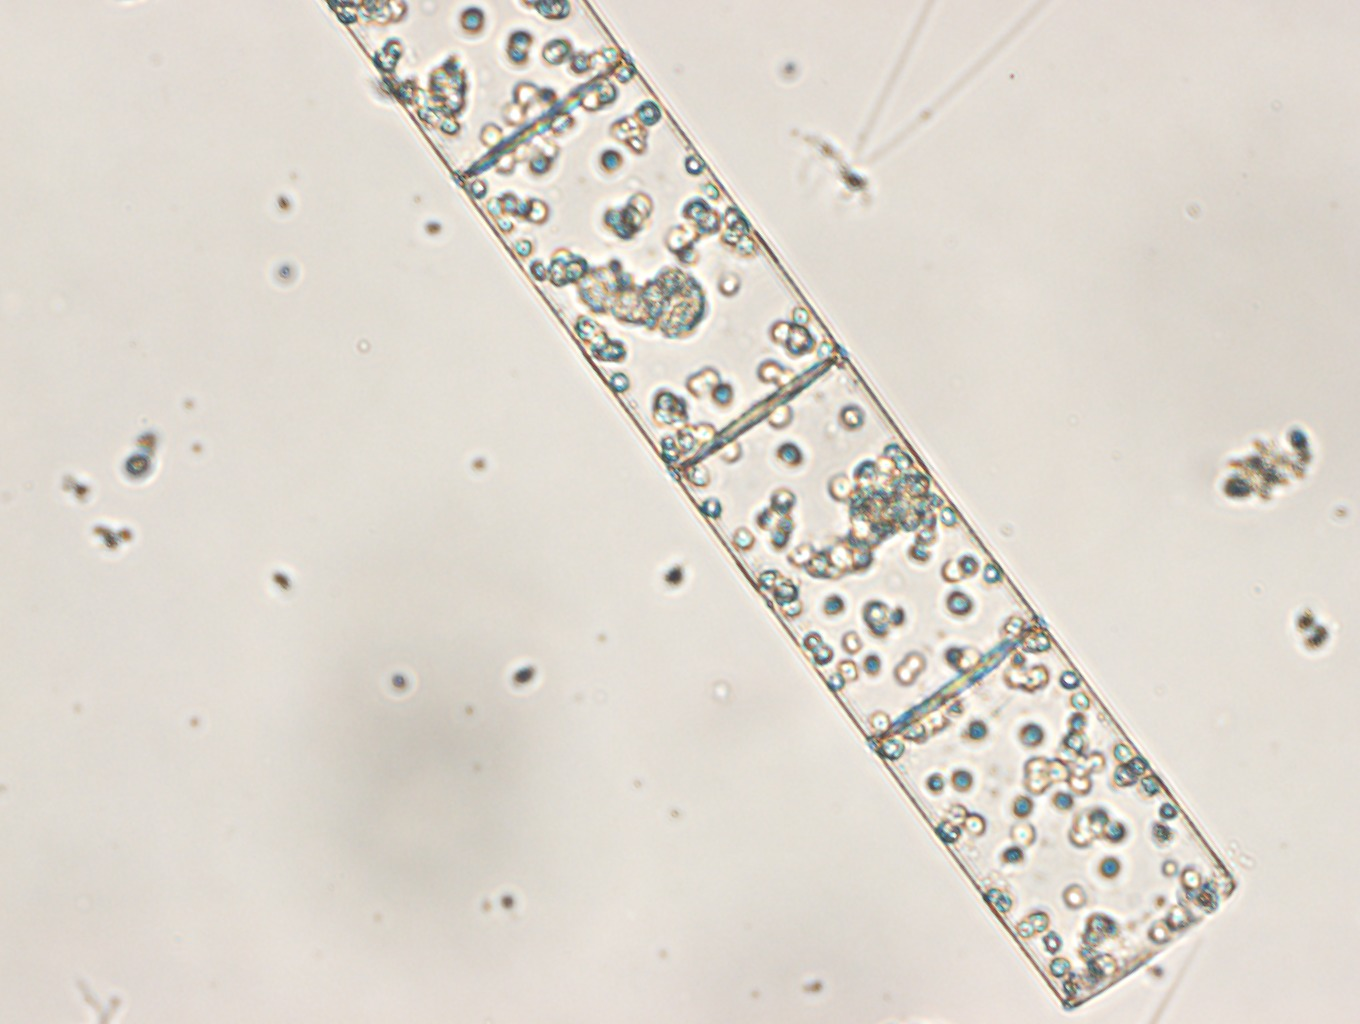guinardia flaccida: (328, 1, 1240, 1014)
